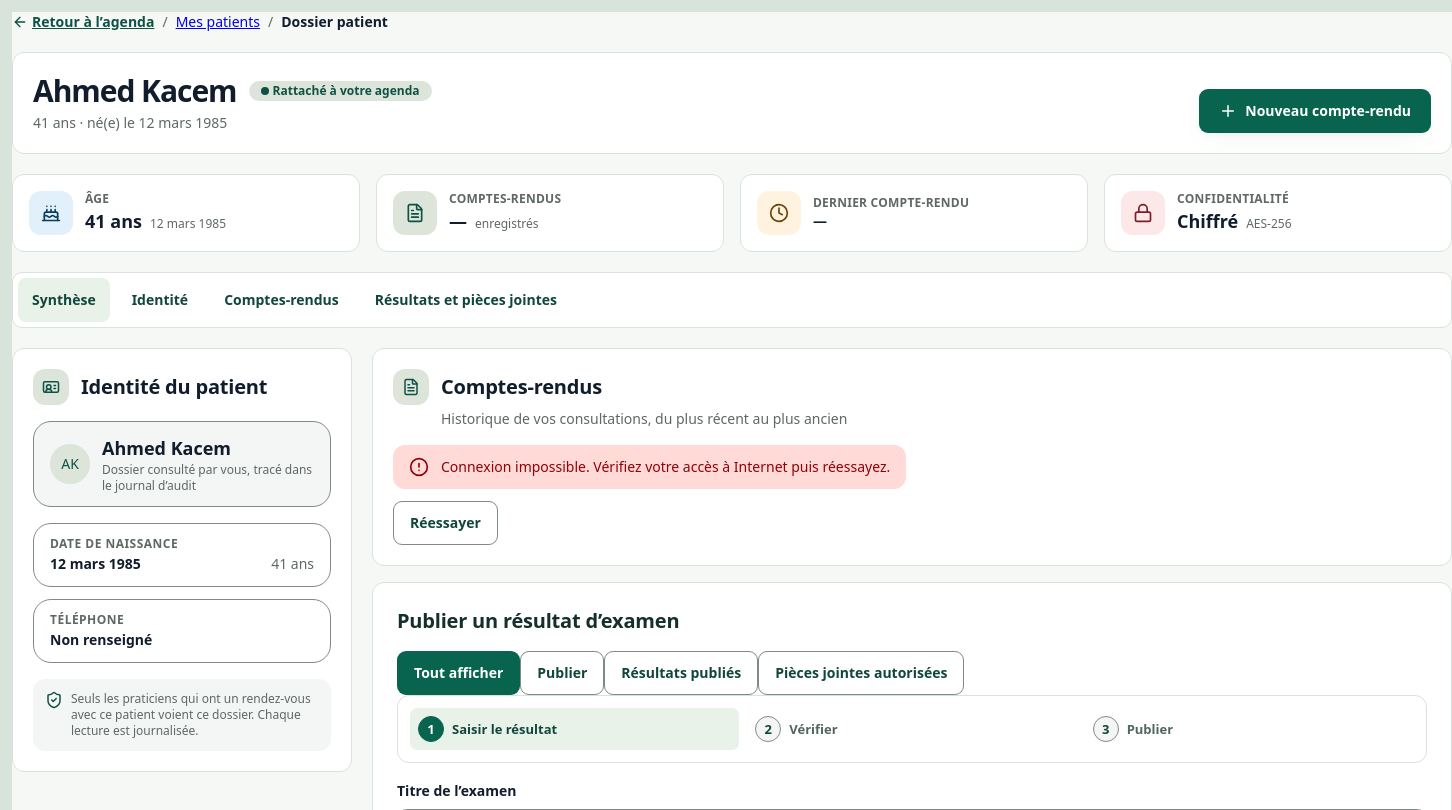
Scenario: the list that cannot be read says so and offers to try again
Expected: the message shows "Connexion impossible.", [441, 457, 890, 476]
Click the button "Réessayer": [445, 523] box [393, 501, 498, 545]
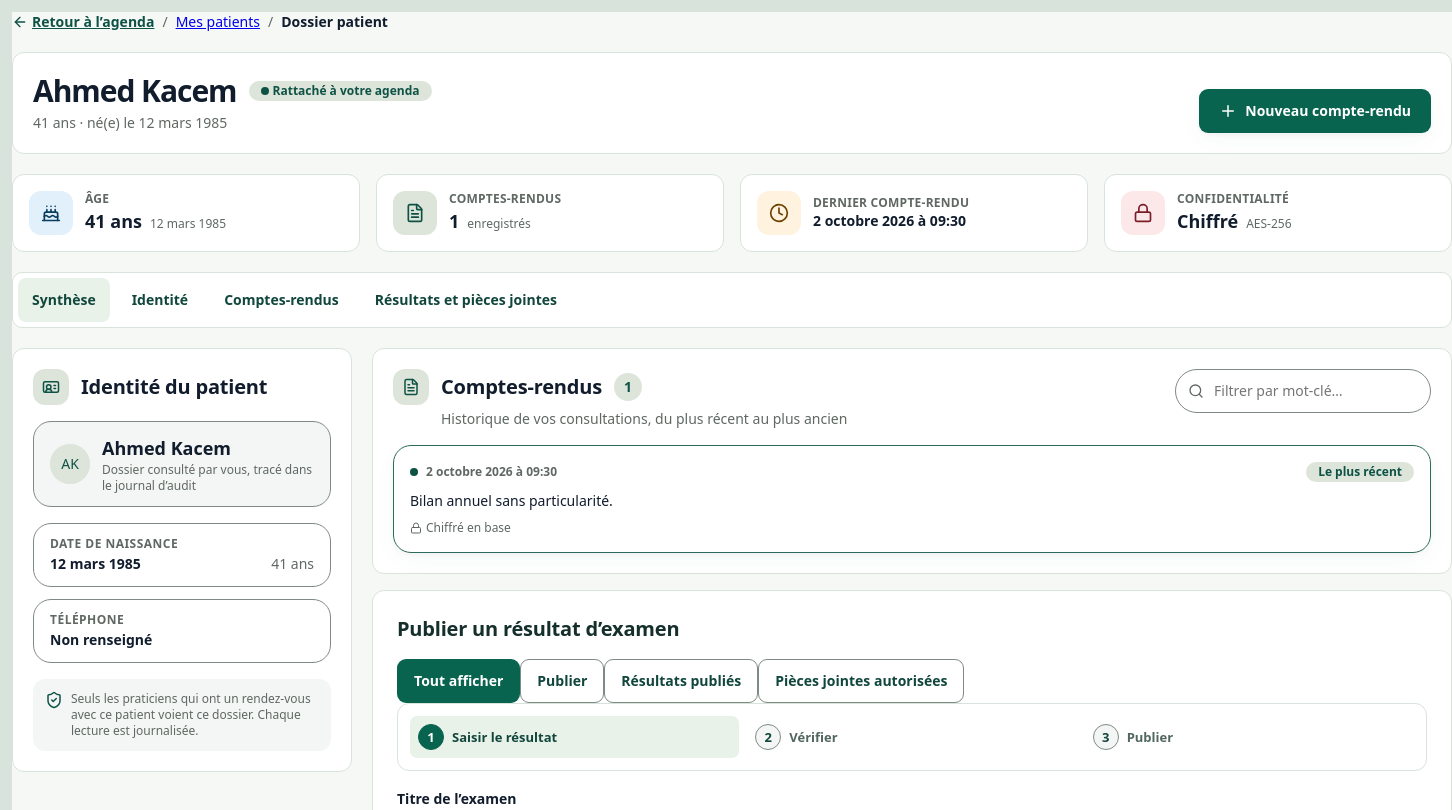
Expected: the text "Bilan annuel sans particularité." is shown, [410, 491, 613, 510]
